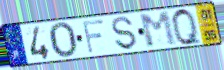4: (29, 24, 51, 61)
F: (81, 18, 106, 56)
M: (137, 10, 179, 50)
O: (47, 21, 79, 60)
Q: (170, 7, 204, 47)
S: (110, 16, 138, 51)
